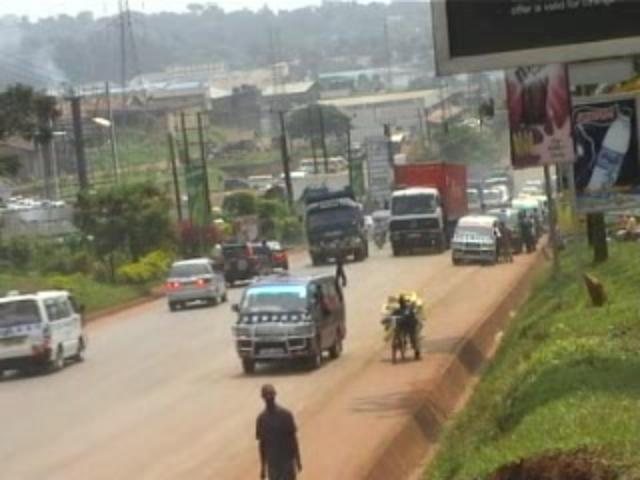car: (165, 257, 229, 306), (219, 243, 269, 282), (254, 239, 289, 272)
truck: (387, 161, 453, 255), (303, 196, 372, 258)
van: (229, 270, 346, 375), (0, 288, 86, 373), (451, 216, 500, 263)
